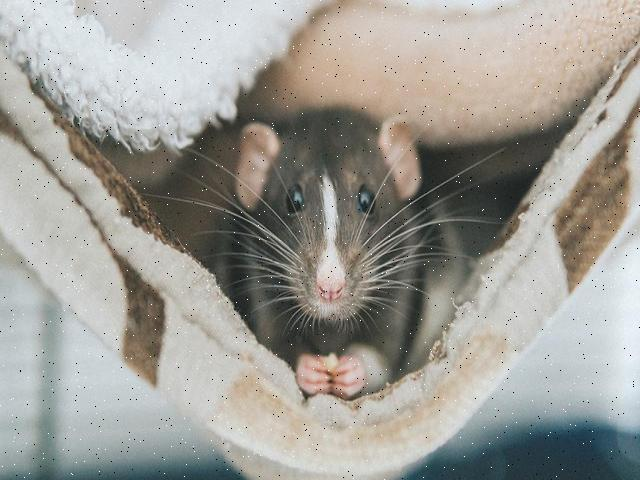Tikus: (225, 116, 433, 386)
